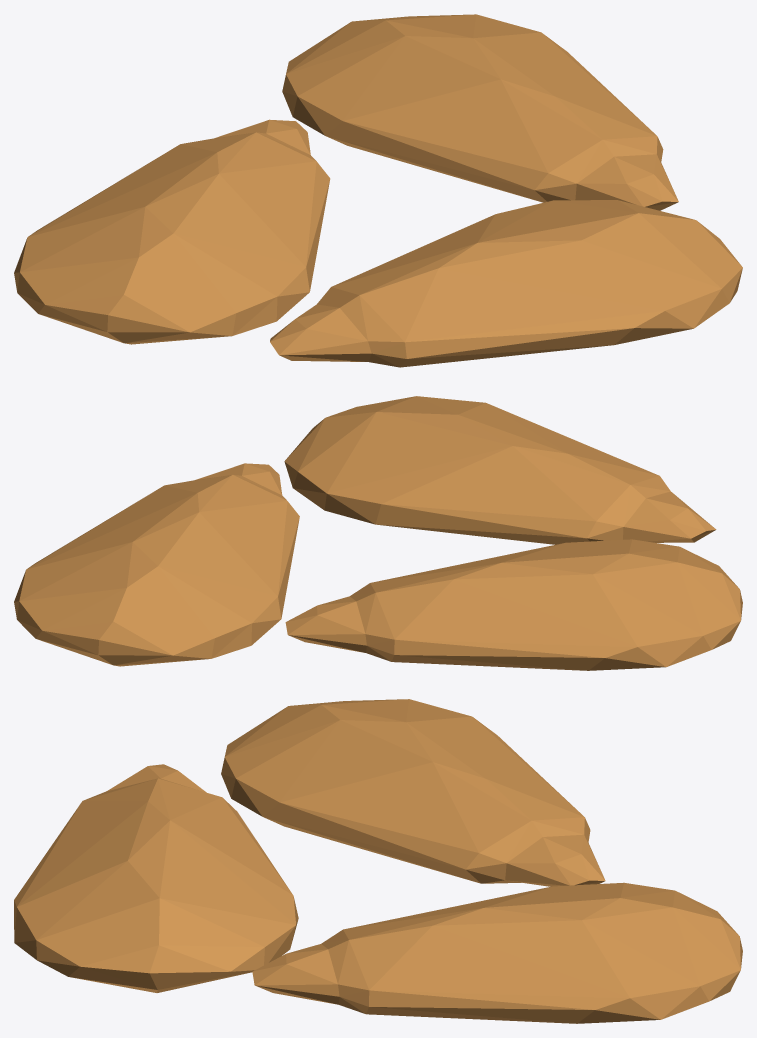
The model's file is Biji Jeruk.fbx.
3 views of the same model, one above another, from view 1: azimuth 30°, elevation 25°; view 2: azimuth 150°, elevation 25°; view 3: azimuth 270°, elevation 25° (orthographic). The views are drawn at different scales.
Parts seen in each view (by area): view 1: BenihTomat.001; view 2: BenihTomat.001; view 3: BenihTomat.001.
Boxes of the visible parts, box(x1,y1,x2,y2) form: BenihTomat.001: box(14, 14, 742, 367); BenihTomat.001: box(14, 396, 742, 670); BenihTomat.001: box(14, 699, 742, 1023).
Size of the model in its own units: 11.12 by 1.64 by 11.11.
